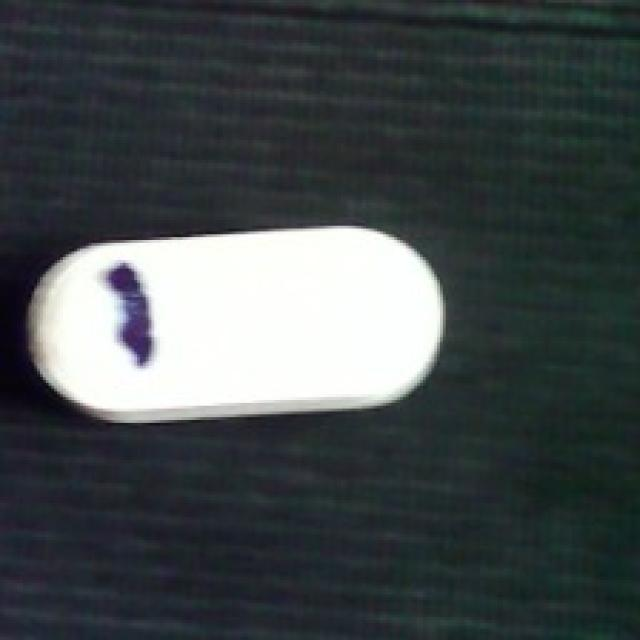defected: (14, 223, 449, 428)
